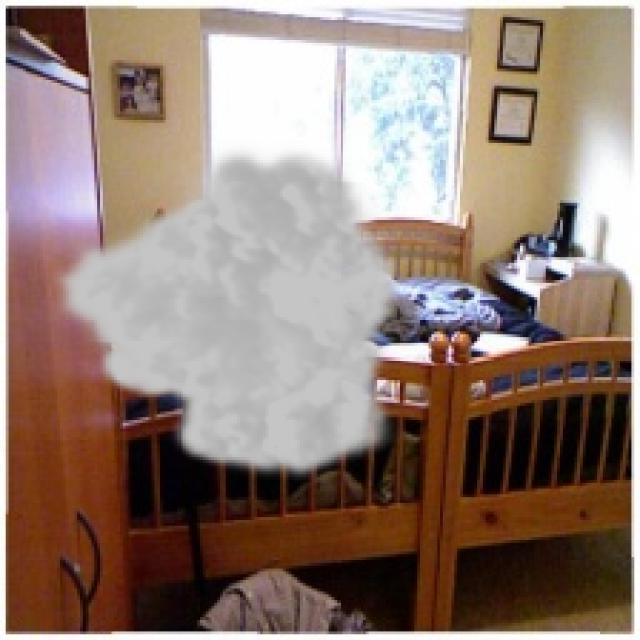smoke: (48, 140, 403, 483)
